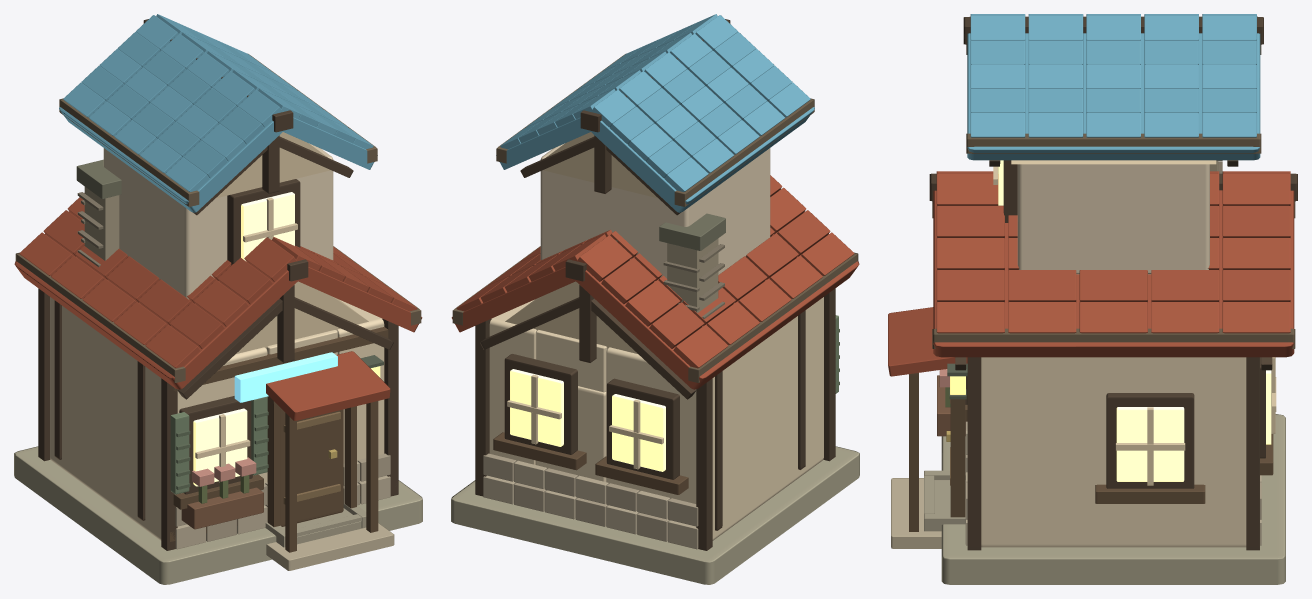
Rendered from workshop-1-0.glb.
3 renders of one model, left to right at view 1: azimuth 30°, elevation 25°; view 2: azimuth 150°, elevation 25°; view 3: azimuth 270°, elevation 25°, orthographic. The views are drawn at different scales.
Visible parts, largest first — view 1: workshop-0-1, door-hinge; view 2: workshop-0-1; view 3: workshop-0-1.
Boxes of the visible parts, x1,y1,x2,y2 form: workshop-0-1: (14,14,422,584); door-hinge: (280,407,343,526); workshop-0-1: (451,14,859,584); workshop-0-1: (888,14,1297,584).
Size of the model in its own units: 1.88 by 3 by 2.24.
